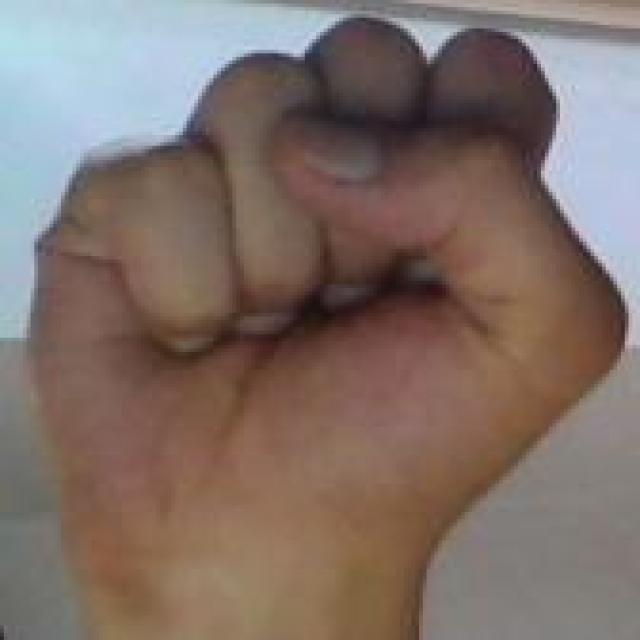S: (10, 3, 640, 593)
